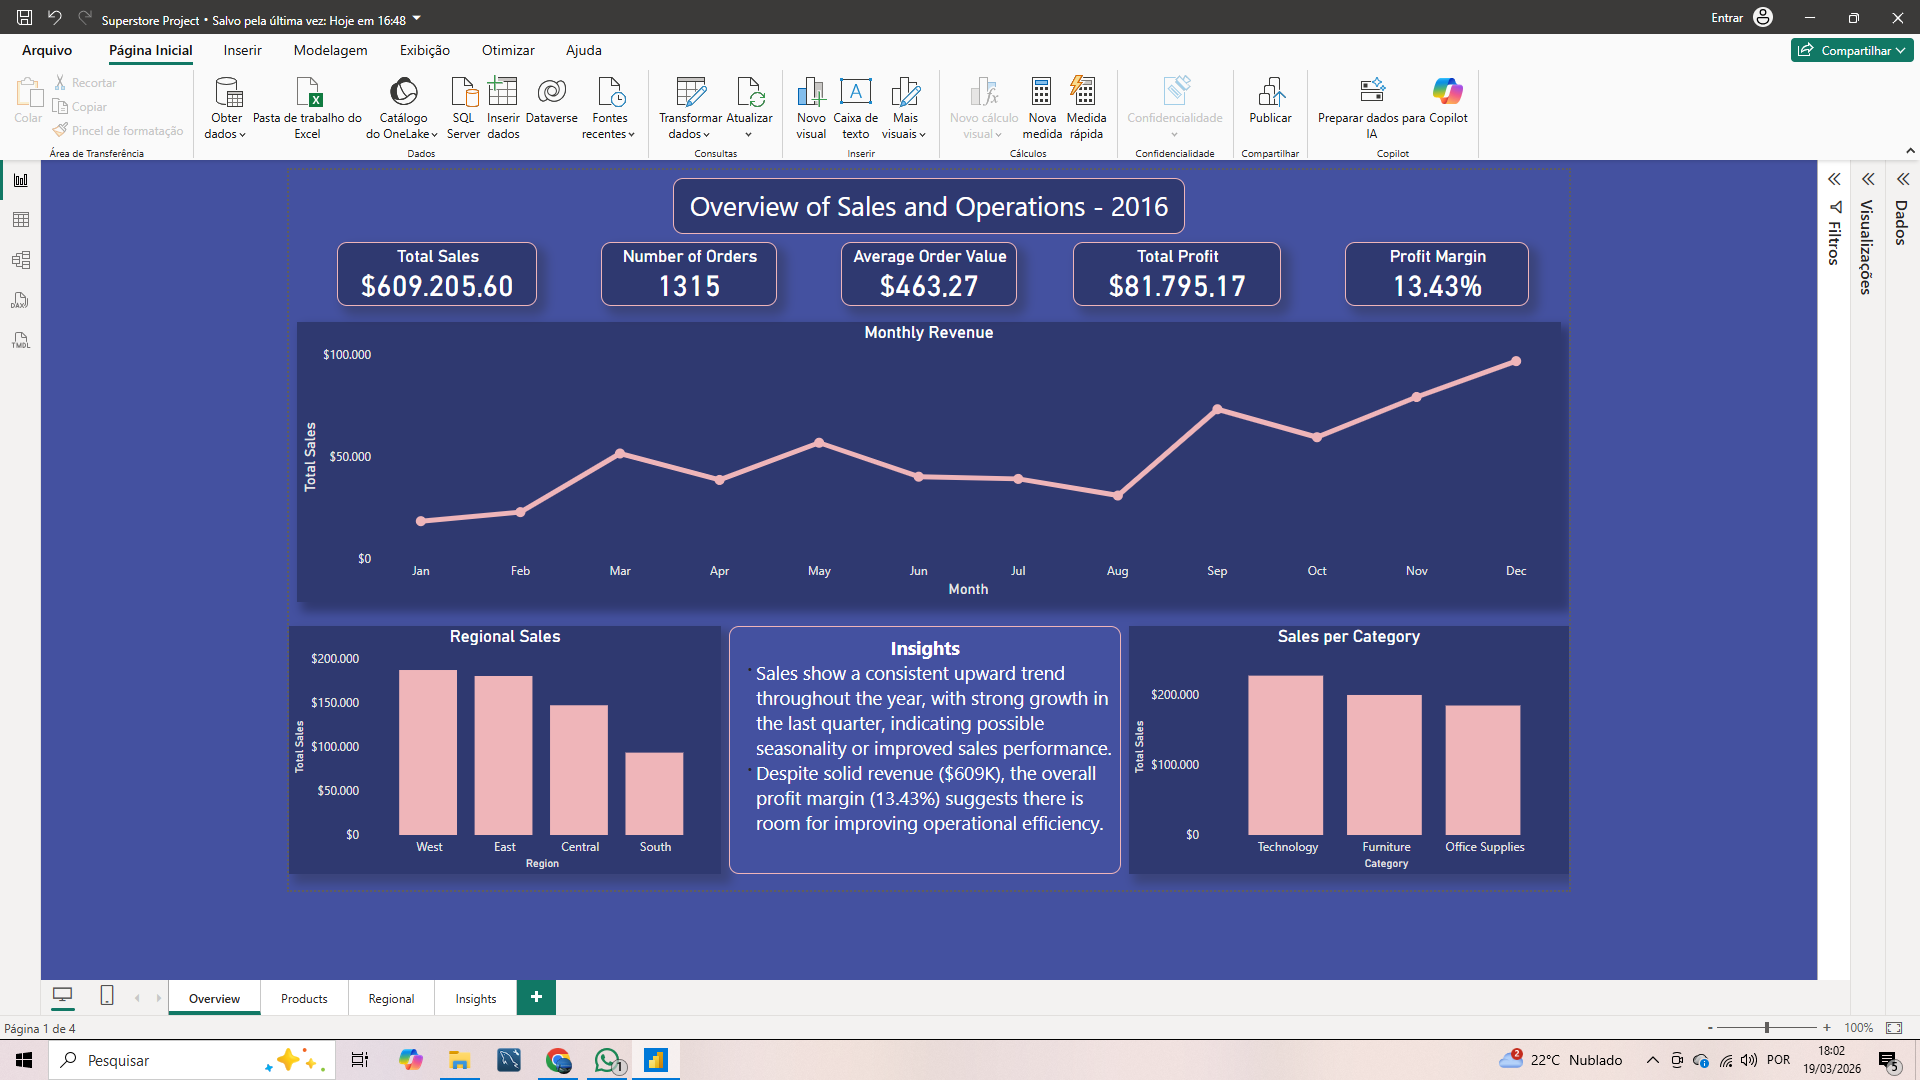

What the dashboard file says about the page in this screenshot:
{"tool":"powerbi","page":{"name":"Overview","canvas":[1280,720],"ordinal":0},"visuals":[{"type":"card","title":"Total Sales","fields":{"Values":["Sample - Superstore.Total Sales"]},"box":[48,71.8,200,64],"z":0},{"type":"textbox","box":[384,8,512,56],"z":1000},{"type":"card","title":"Number of Orders","fields":{"Values":["Sample - Superstore.Number_orders"]},"box":[312,71.8,176,64],"z":2000},{"type":"card","title":"Average Order Value","fields":{"Values":["Sample - Superstore.Average Ticket"]},"box":[552,72,176,64],"z":3000},{"type":"lineChart","title":"Monthly Revenue","fields":{"Y":["Sample - Superstore.Total Sales"],"Category":["Sample - Superstore.Month Short EN"]},"box":[8,152,1264,280],"z":4000},{"type":"clusteredColumnChart","title":"Regional Sales","fields":{"Y":["Sample - Superstore.Total Sales"],"Category":["Sample - Superstore.Region"]},"box":[0,456,432,248],"z":5000},{"type":"clusteredColumnChart","title":"Sales per Category","fields":{"Y":["Sample - Superstore.Total Sales"],"Category":["Sample - Superstore.Category"]},"box":[840,456,440,248],"z":6000},{"type":"card","title":"Total Profit","fields":{"Values":["Sample - Superstore.Total Profit"]},"box":[784,71.8,208,64],"z":7000},{"type":"card","title":"Profit Margin","fields":{"Values":["Sample - Superstore.Profit Margin"]},"box":[1056,71.8,184,64],"z":8000},{"type":"textbox","box":[440,456,392,248],"z":8001}]}

Visuals, with their boxes on the page's 1280x720 design canvas (x1, y1, x2, y2). These are canvas units, not pixel positions in the 1920x1080 screenshot, which may show the page scaled, cropped or inside an application window:
"Total Sales" card: box(48, 72, 248, 136)
textbox: box(384, 8, 896, 64)
"Number of Orders" card: box(312, 72, 488, 136)
"Average Order Value" card: box(552, 72, 728, 136)
"Monthly Revenue" lineChart: box(8, 152, 1272, 432)
"Regional Sales" clusteredColumnChart: box(0, 456, 432, 704)
"Sales per Category" clusteredColumnChart: box(840, 456, 1280, 704)
"Total Profit" card: box(784, 72, 992, 136)
"Profit Margin" card: box(1056, 72, 1240, 136)
textbox: box(440, 456, 832, 704)
